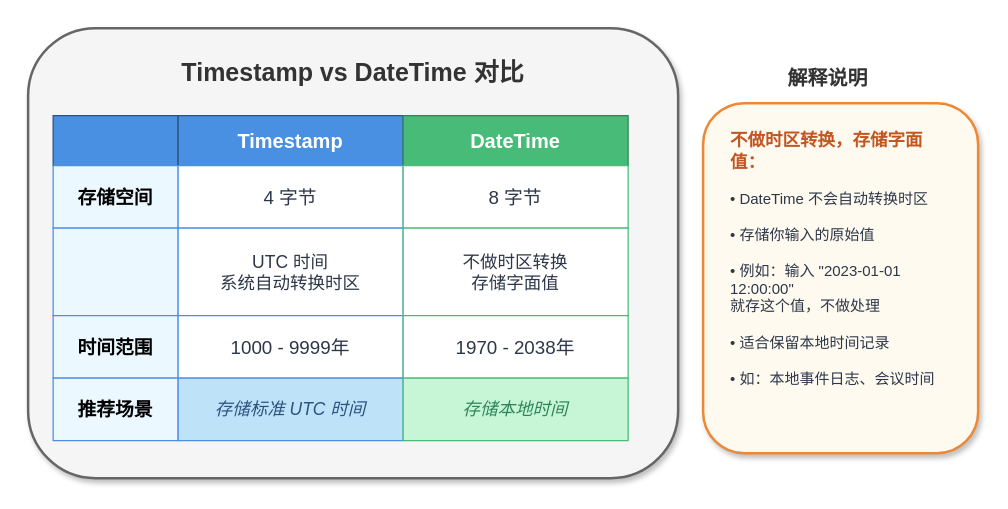
Some shapes in this 1008 by 509 pixel diagram are drawn without their labels. The centre of each missing label's shape, as x and y in pixels:
"对比项" goes at pixel 115 140.
"时区处理" goes at pixel 115 271.
